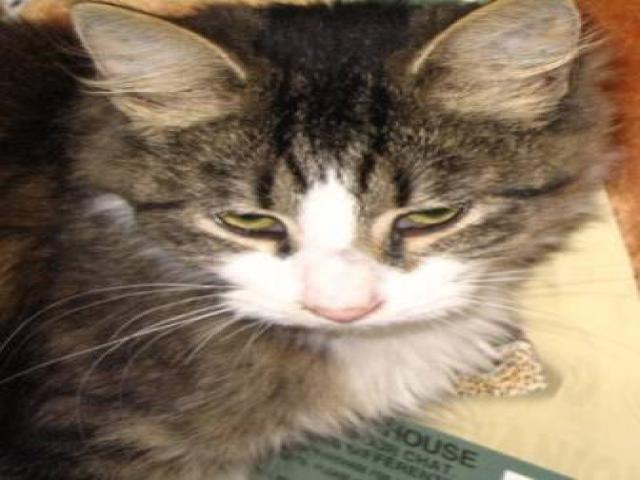cat: (3, 1, 631, 479)
